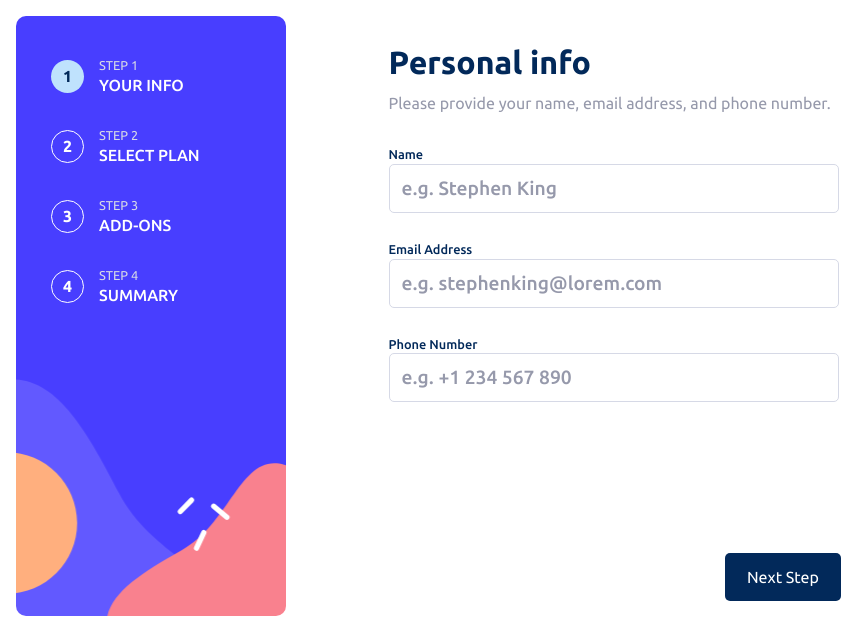
Test: Integration between the main component and the forms it loads › Should be possible to go to the last form
What coordinates should you click on to do the following:
click the button "Next Step"
I would click on:
 (783, 577)
Its box is [725,553,841,601].
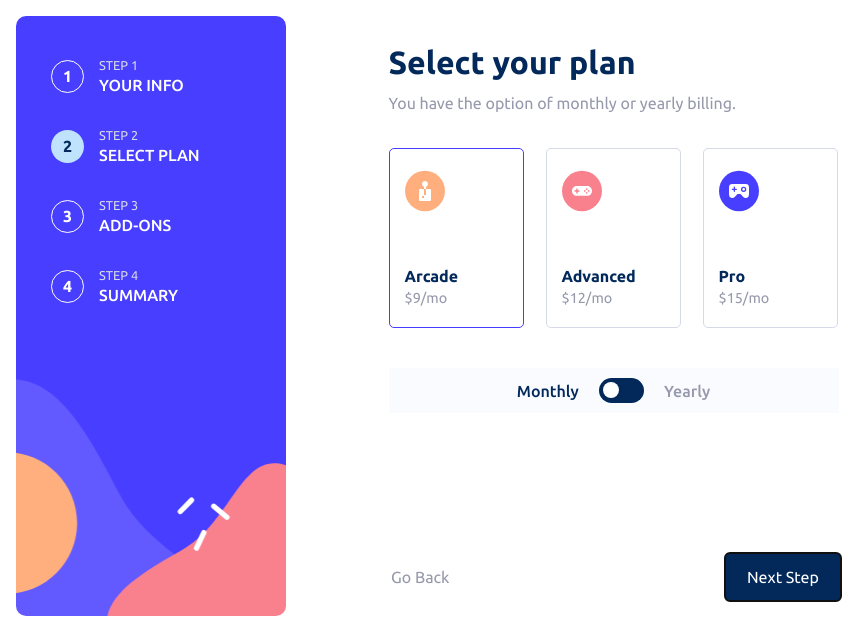
What coordinates should you click on to do the following:
click the button "Next Step"
I would click on:
 (783, 577)
Its box is [725,553,841,601].
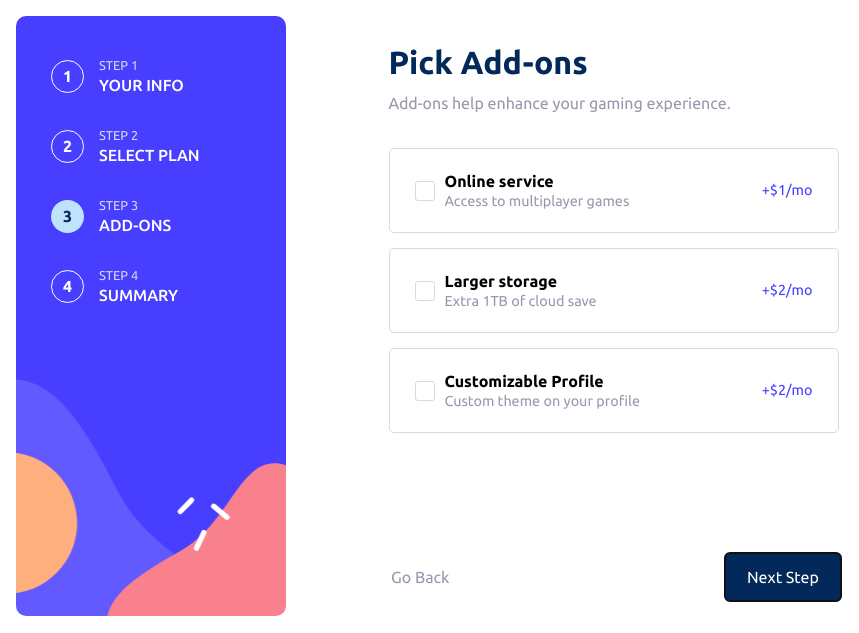
What coordinates should you click on to do the following:
click the button "Next Step"
I would click on:
 (783, 577)
Its box is [725,553,841,601].
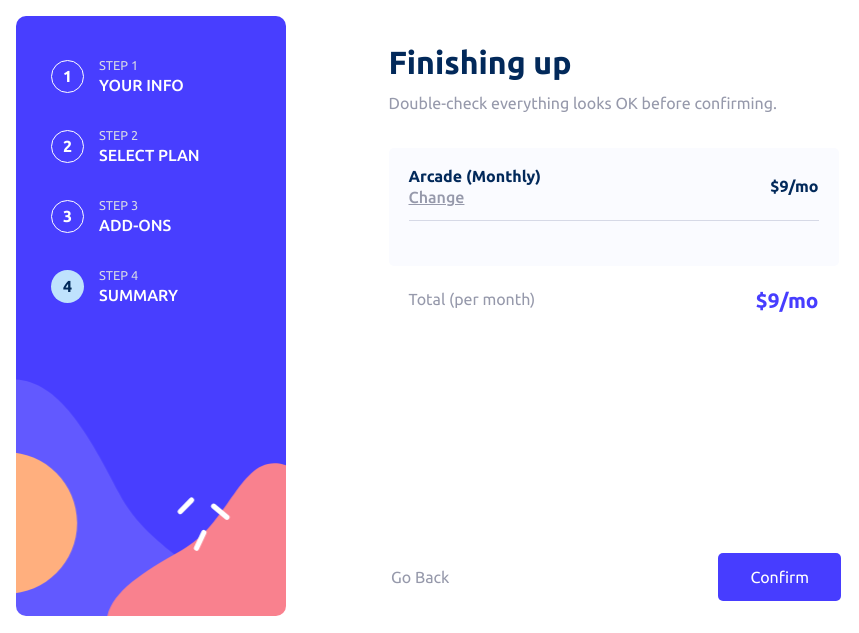
Expected: the button "Confirm" is shown, [718,553,841,601]
